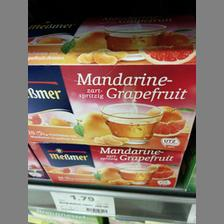Tee: (26, 19, 194, 149), (27, 140, 183, 188)
